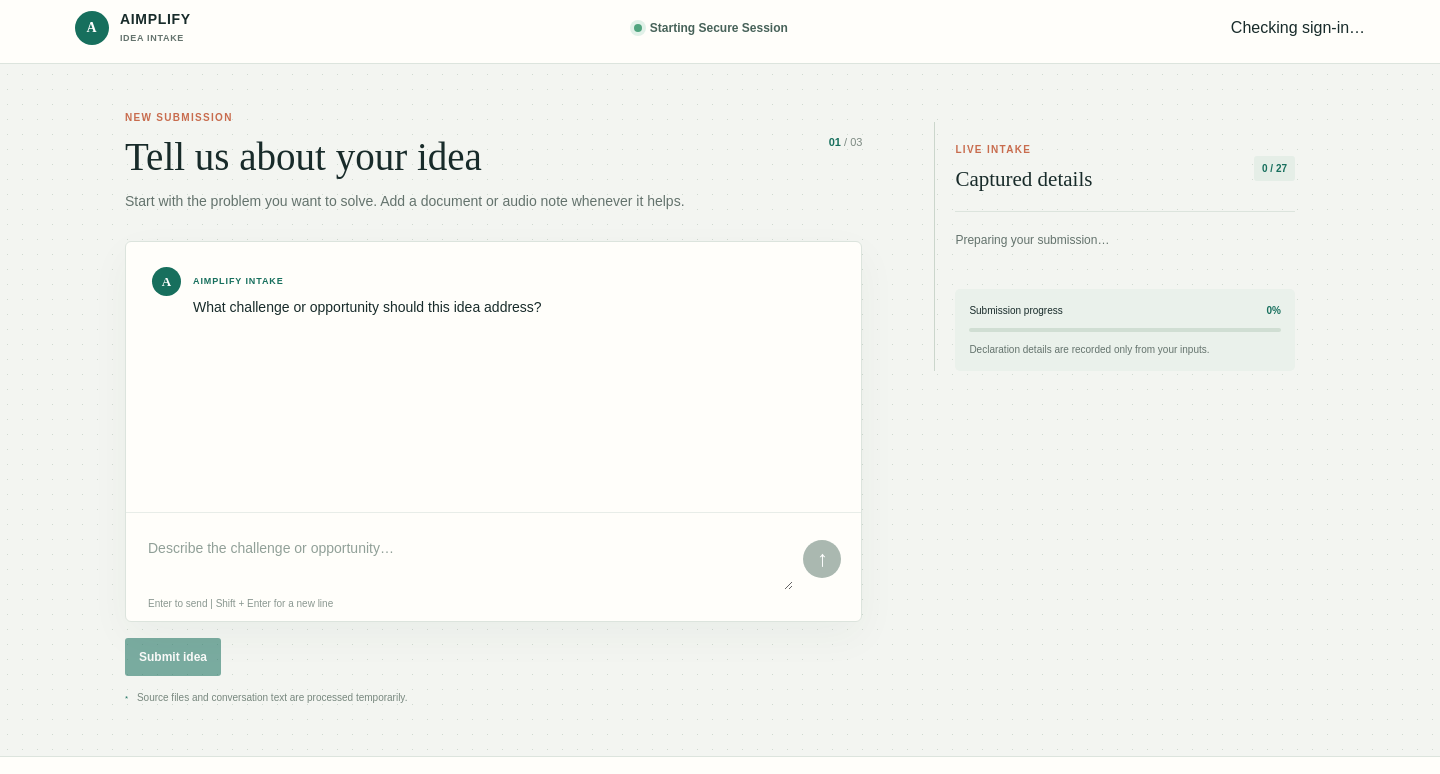
Test case: safety notices › renders category-only partial denial without blocking editing or stealing focus
Later steps or results of the test are not shown.
Type "A safe clarification." into the text box named "message".
click(469, 559); type("A safe clarification.")  # box top-left (144, 528), bottom-right (793, 590)
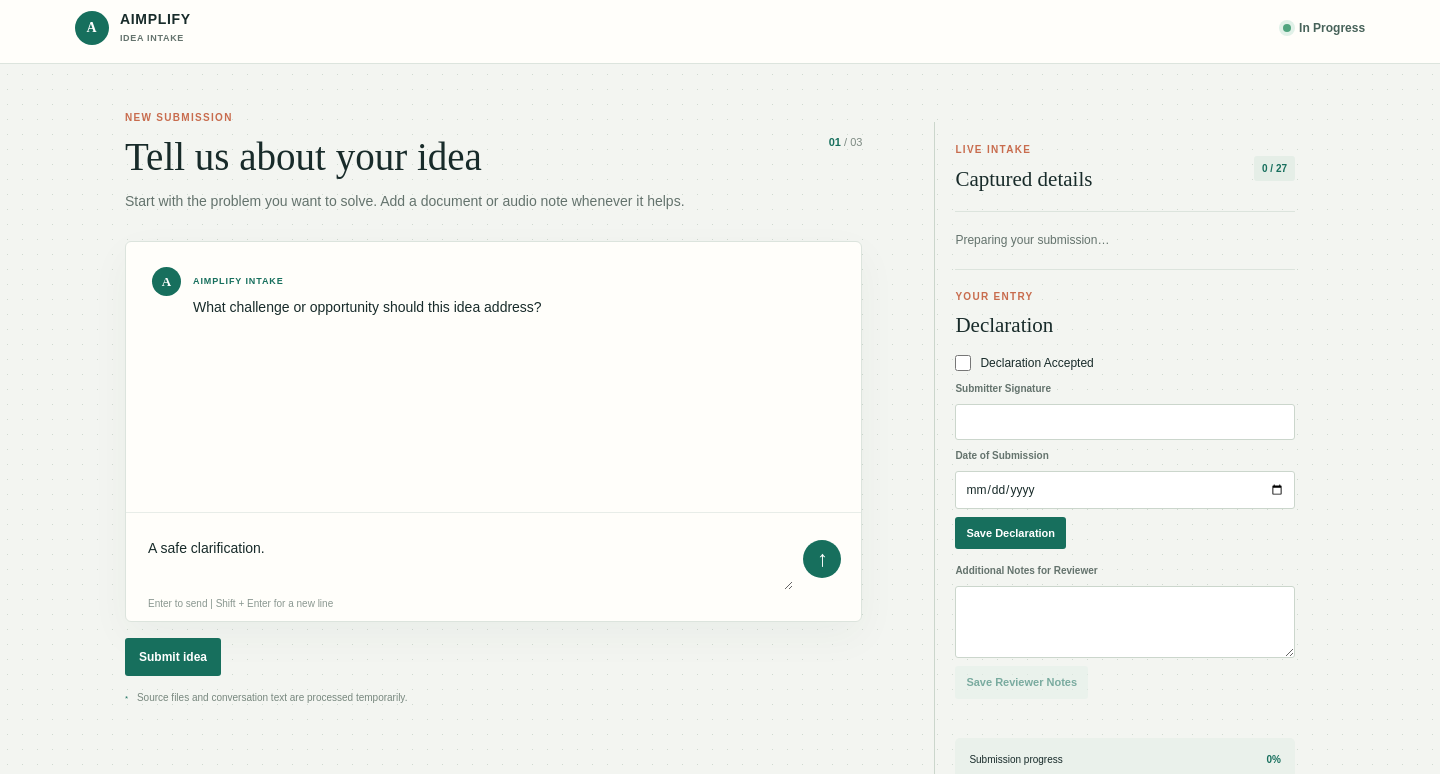
Click the button named "send".
click(822, 559)  # box top-left (803, 540), bottom-right (841, 578)
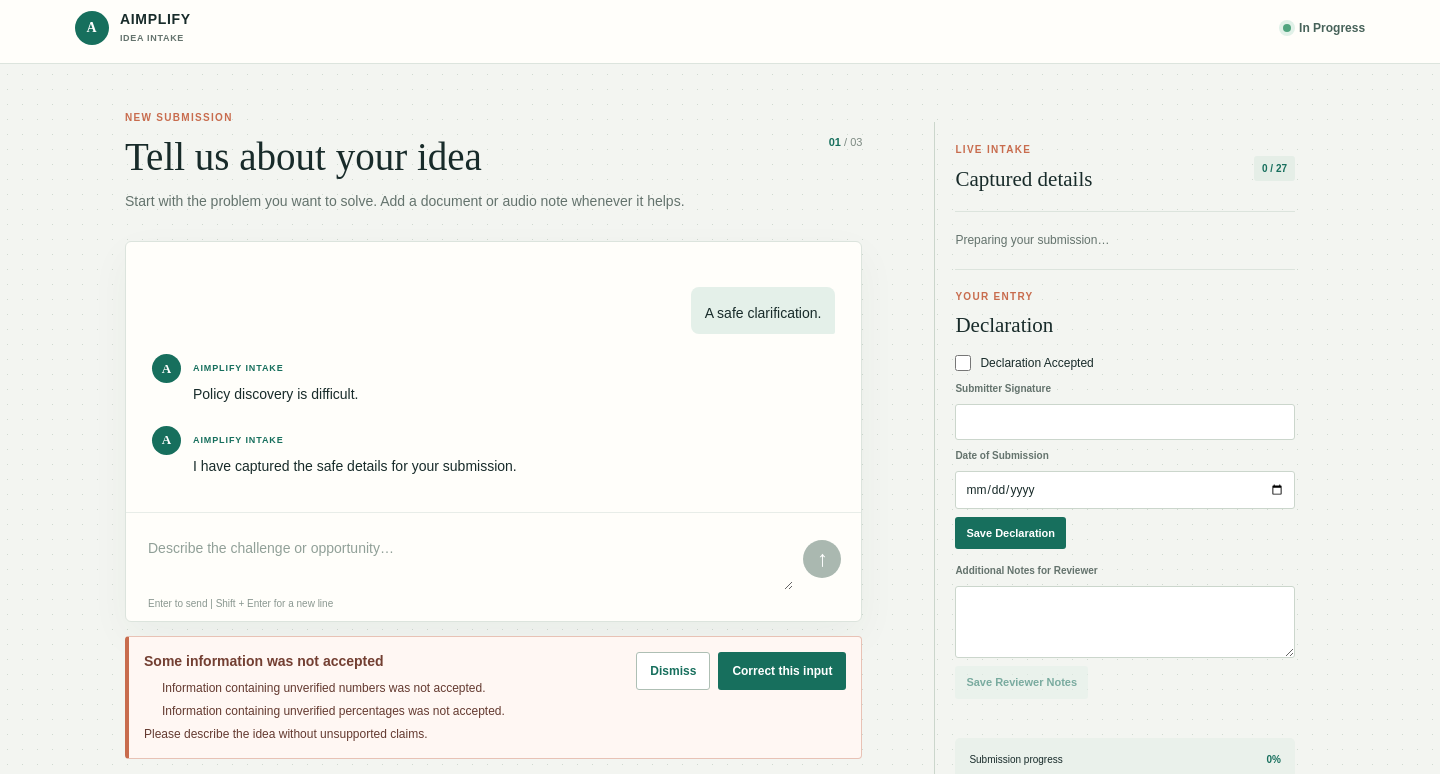
expect the message shows "Some information was not accepted": met, box top-left (144, 653), bottom-right (384, 669)
expect the message shows "unverified numbers": met, box top-left (162, 681), bottom-right (486, 695)
expect the message shows "unverified percentages": met, box top-left (162, 704), bottom-right (505, 718)
Click the button "Correct this input".
click(782, 671)  # box top-left (718, 652), bottom-right (846, 690)
(page scrolled)
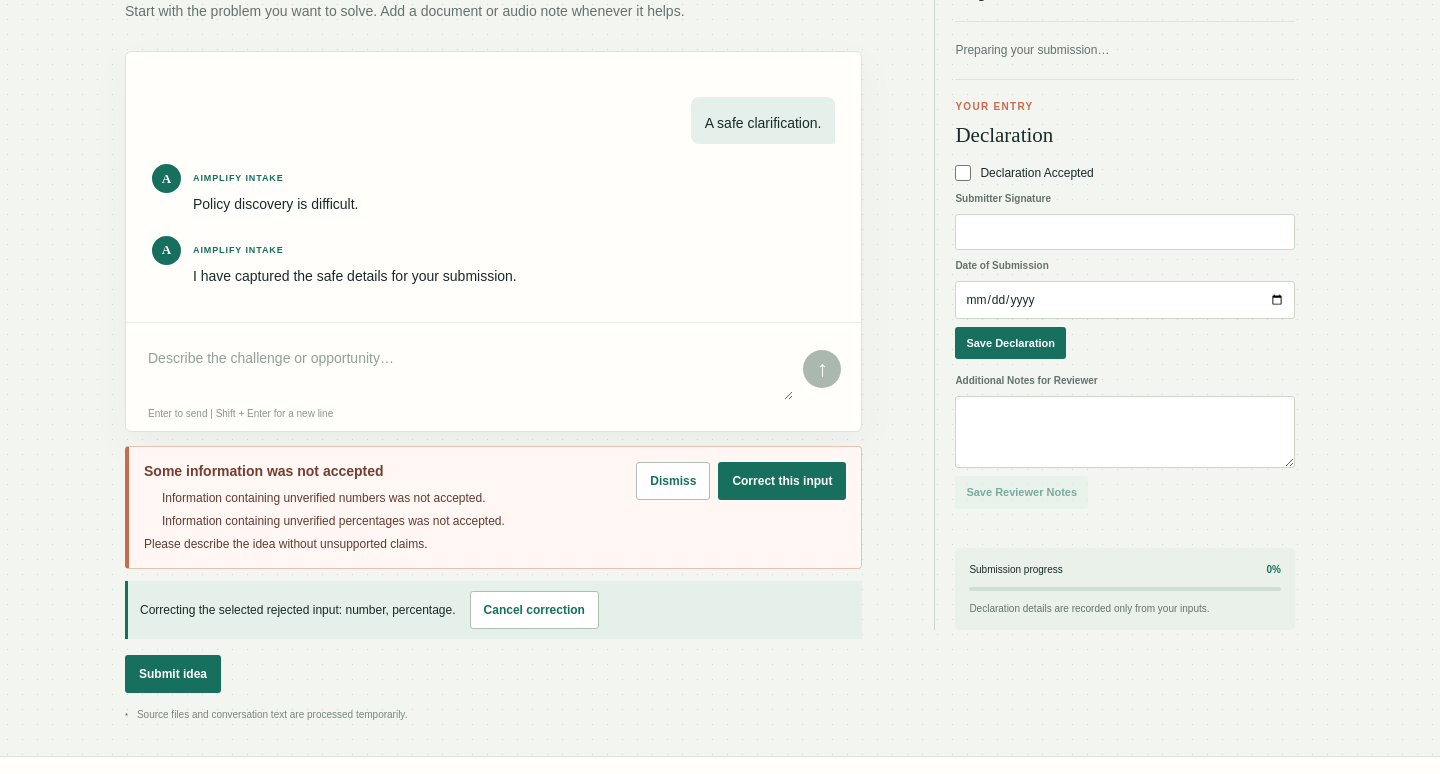
expect the text "Correcting the selected rejected input: number, percentage." is shown: met, box top-left (140, 601), bottom-right (456, 619)
